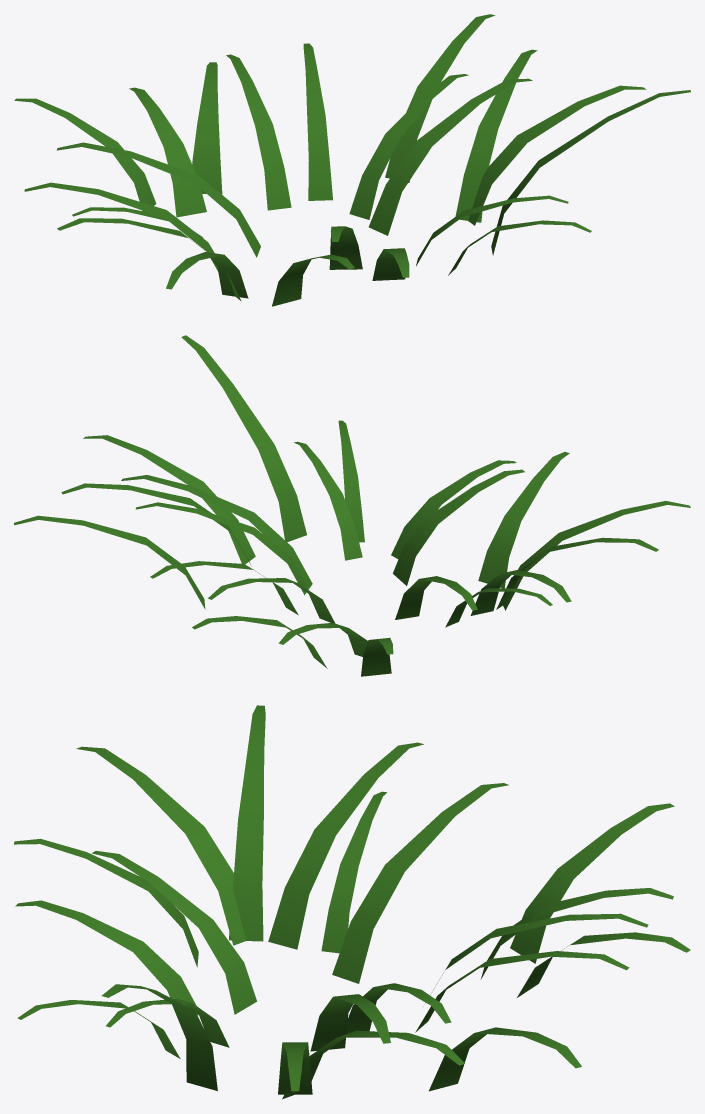
Rendered from model_mato3_01.fbx.
The picture shows the model from 3 angles, top to bottom: view 1: azimuth 30°, elevation 25°; view 2: azimuth 150°, elevation 25°; view 3: azimuth 270°, elevation 25°; orthographic projection. The views are drawn at different scales.
Visible parts, largest first — view 1: Plane.037; view 2: Plane.037; view 3: Plane.037.
Part boxes in pixels (box(x1,y1,x2,y2)): Plane.037: box(14, 14, 690, 306); Plane.037: box(14, 335, 690, 676); Plane.037: box(14, 705, 690, 1099).
Size of the model in its own units: 3.89 by 0.9381 by 3.04.
